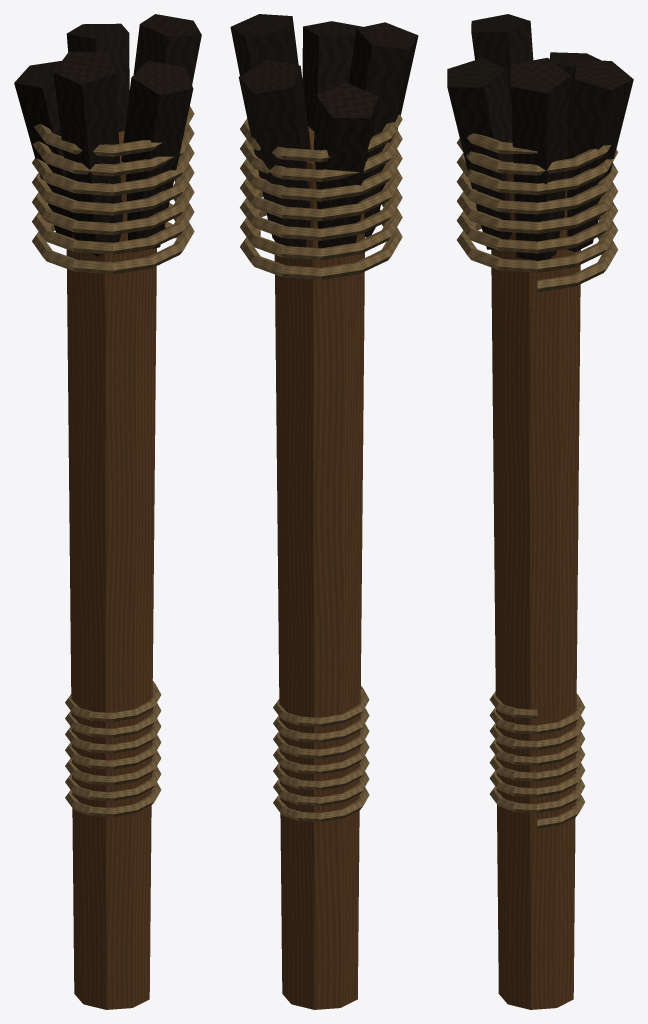
Rendered from HandTorch.fbx.
3 renders of one model, left to right at view 1: azimuth 30°, elevation 25°; view 2: azimuth 150°, elevation 25°; view 3: azimuth 270°, elevation 25°, orthographic.
Parts seen in each view (by area): view 1: HandTorch; view 2: HandTorch; view 3: HandTorch.
Boxes of the visible parts, <box> form: HandTorch: <box>14,14,201,1009</box>; HandTorch: <box>230,14,418,1009</box>; HandTorch: <box>447,14,633,1009</box>.
Size of the model in its own units: 0.1283 by 0.7337 by 0.1304.
